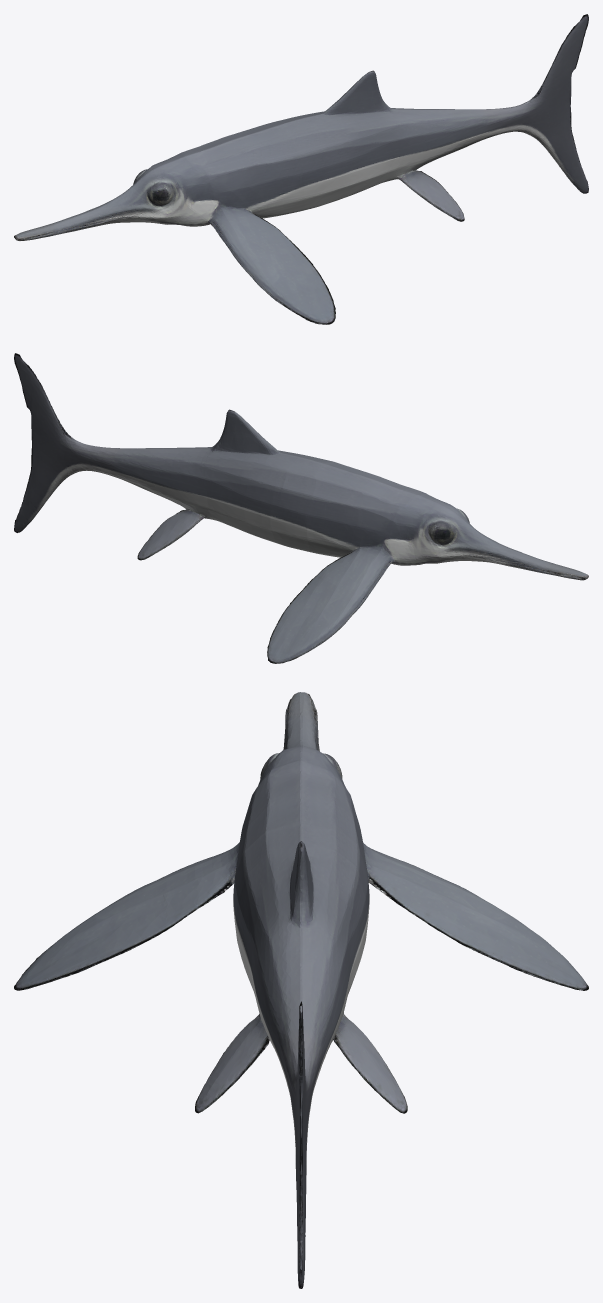
The picture shows the model from 3 angles, top to bottom: view 1: azimuth 30°, elevation 25°; view 2: azimuth 150°, elevation 25°; view 3: azimuth 270°, elevation 25°; orthographic projection. The views are drawn at different scales.
Parts seen in each view (by area): view 1: world; view 2: world; view 3: world.
Boxes of the visible parts, x1,y1,x2,y2 form: world: (14, 14, 588, 324); world: (14, 353, 588, 663); world: (14, 692, 588, 1288).
Size of the model in its own units: 1 by 0.2991 by 0.5449.
1 material, 1 textured.
